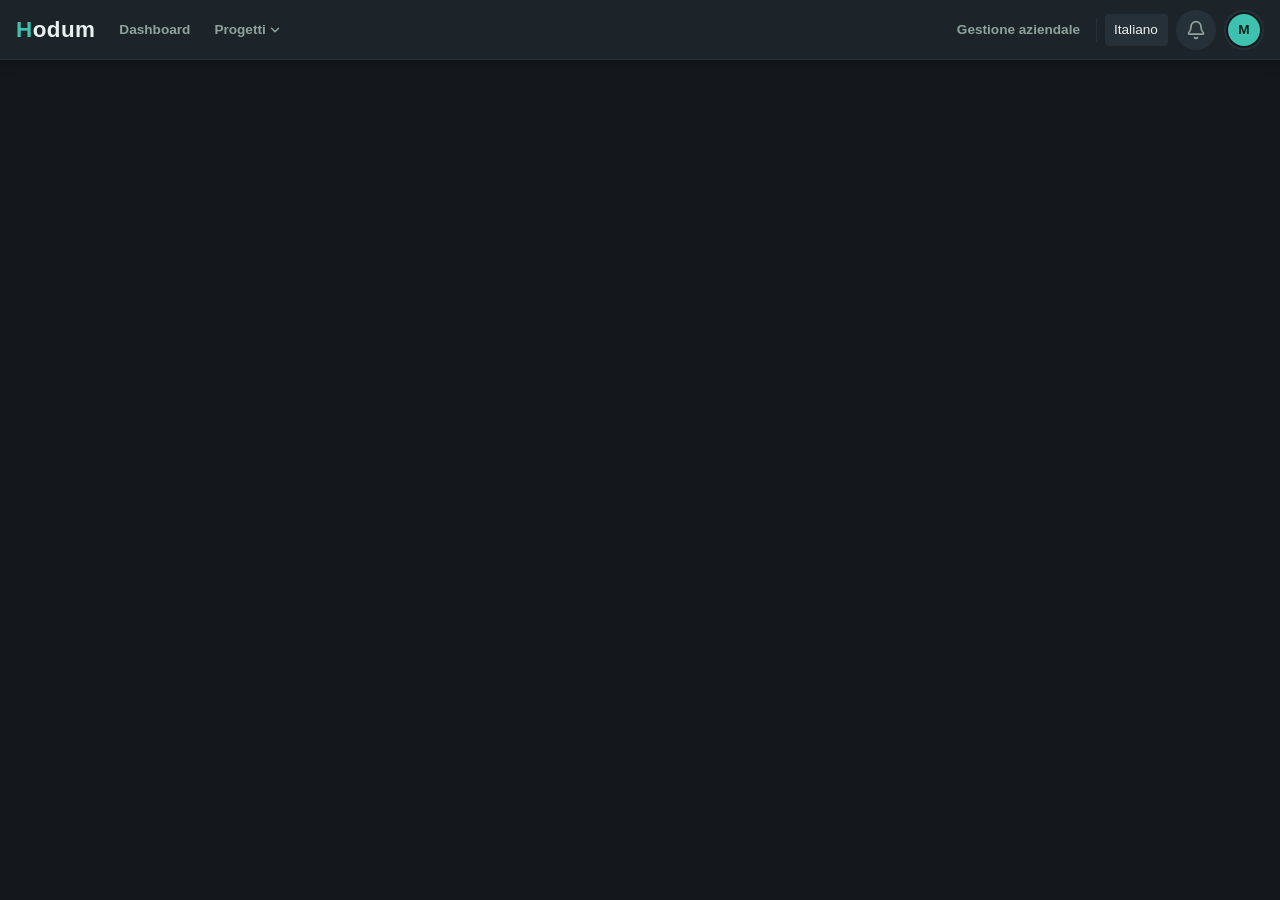
Scenario: TopbarComponent › opens the edit account modal prefilled with the current user and closes the account menu
This screenshot has width=1280, height=900.
Click the button named "Menu account" at (1244, 30), box [1224,10,1264,50]
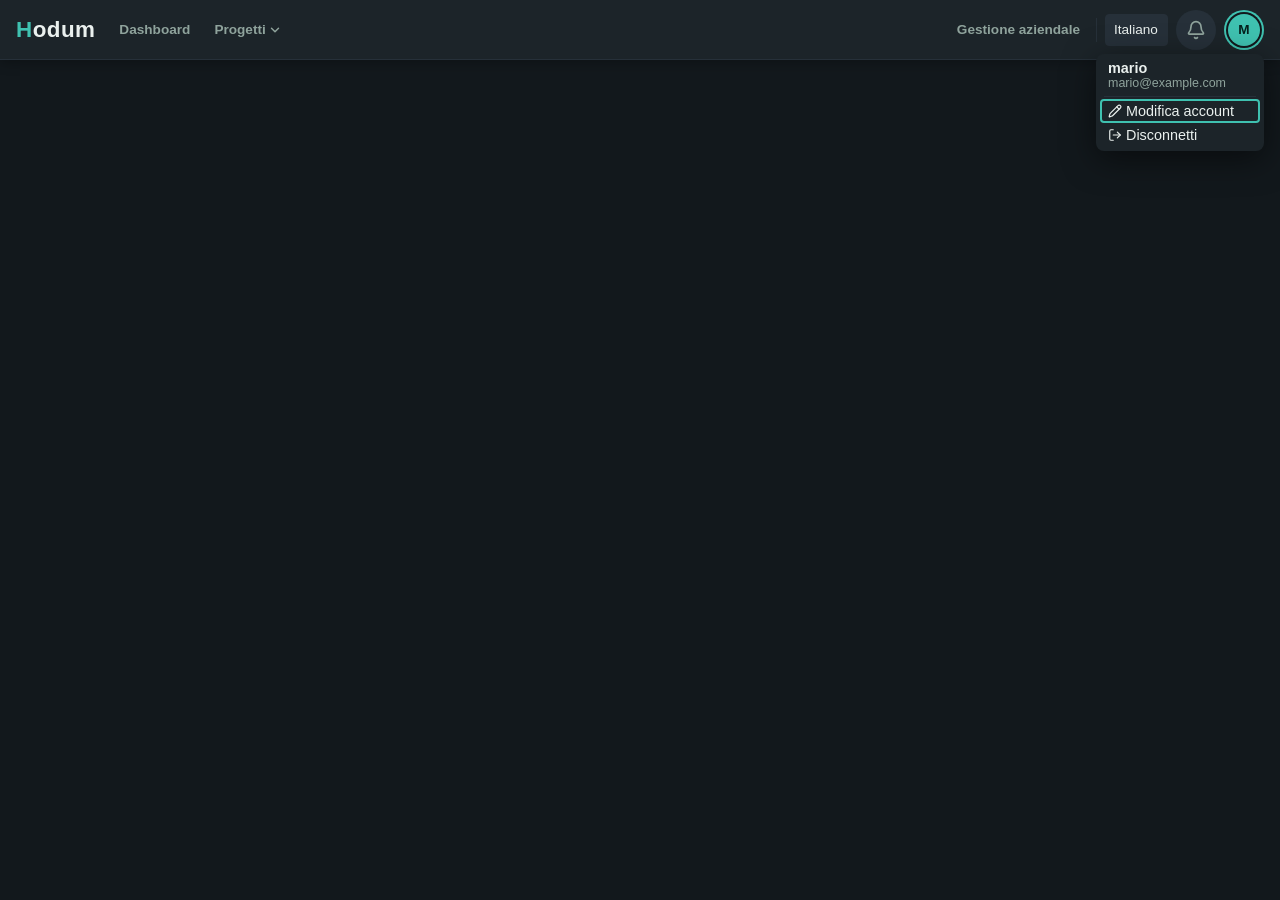
Click the menu item "Modifica account" at (1180, 110), box [1100,98,1260,122]
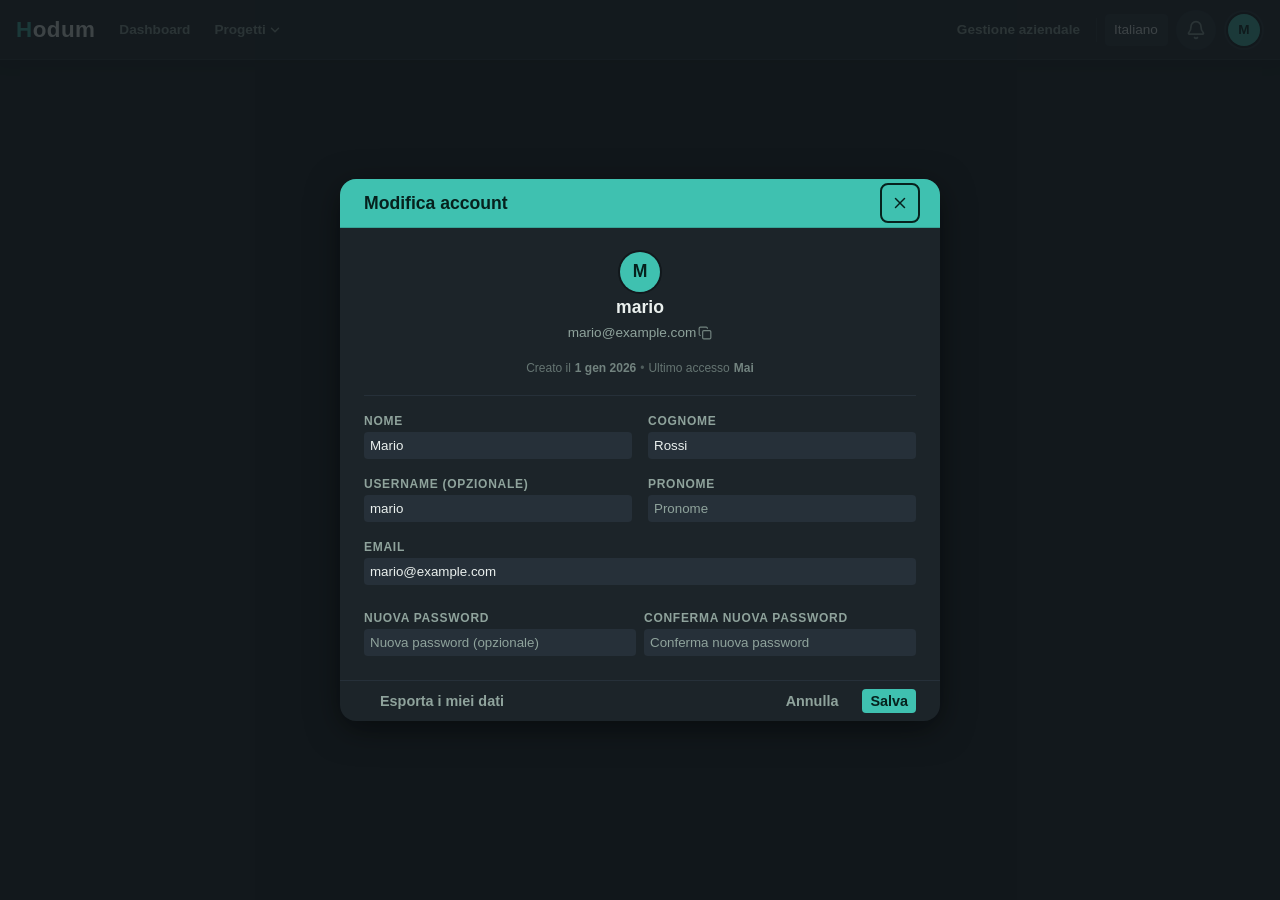
Expected: the heading "Modifica account" is shown, [364,193,508,213]
Expected: the menu is gone
Expected: the field showing "mario" is shown, [364,495,632,522]
